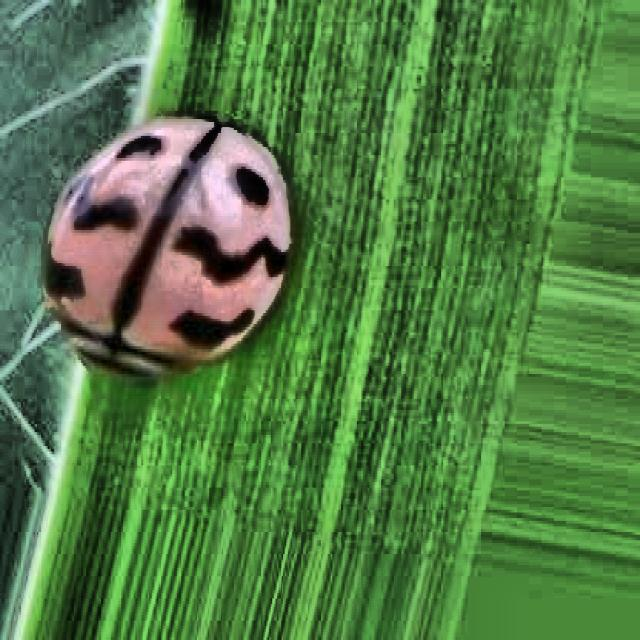Asian-Lady-beetle: (23, 78, 318, 426)
